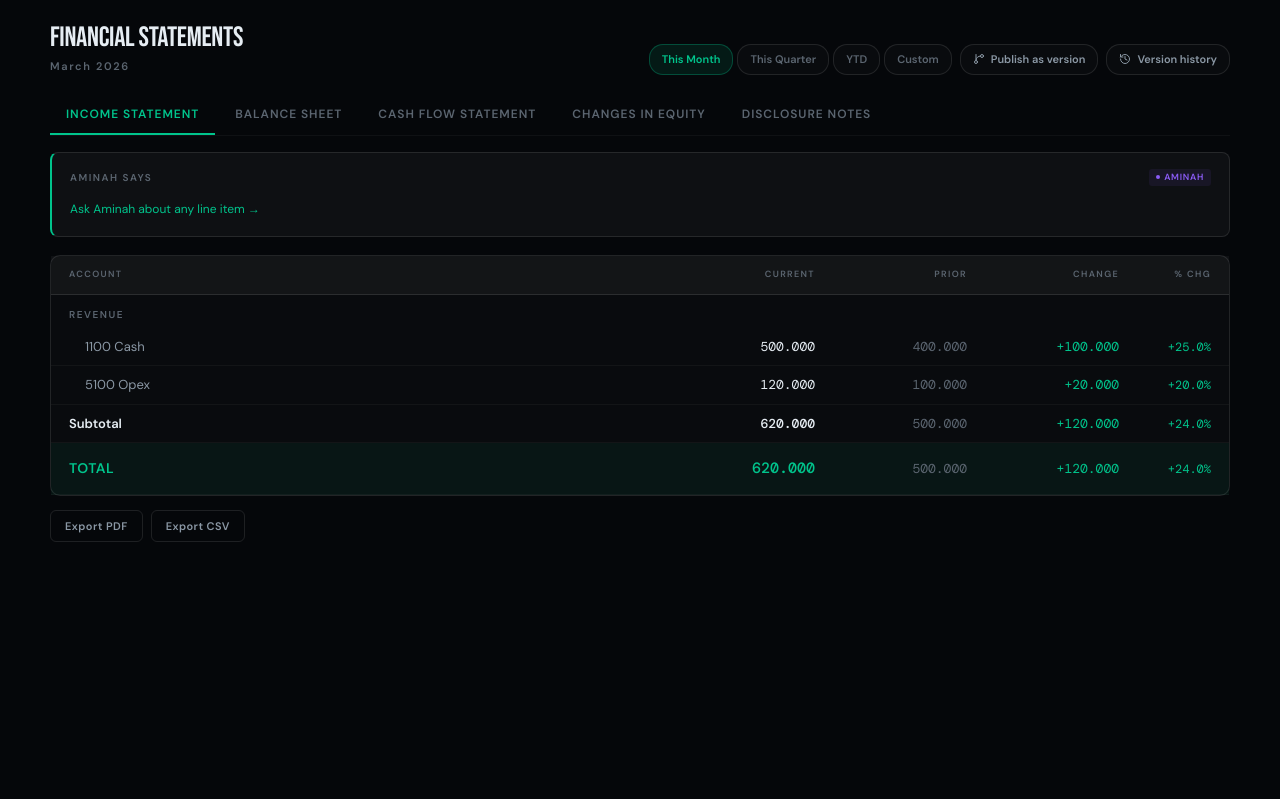
Test: IAS 8 restatement watermark (HASEEB-216) › renders the watermark banner on the SOCIE tab when active
Click the button "CHANGES IN EQUITY" at [639, 114], box [556,92,722,134]
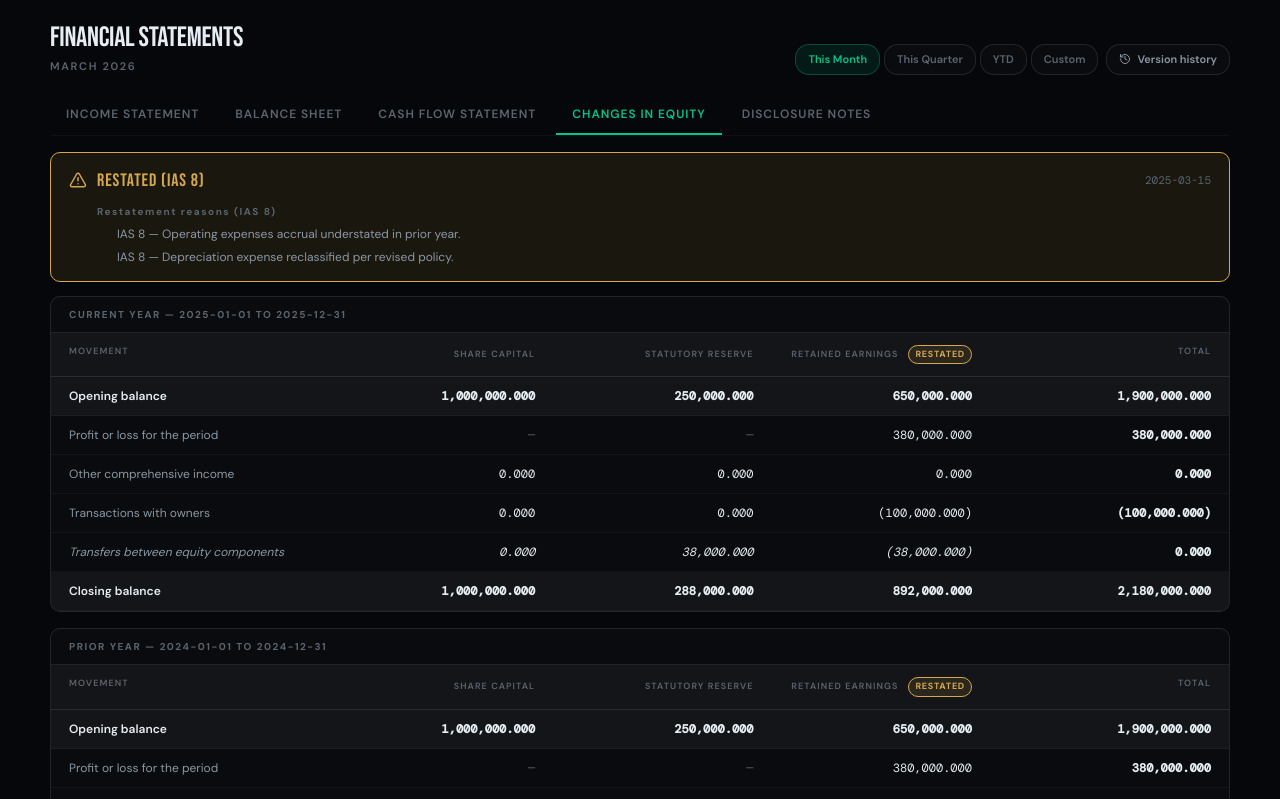
Check: the message with test id "restatement-watermark" is shown, box [50,152,1230,282]
